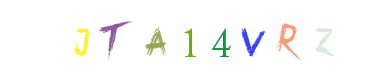1: (154, 0, 234, 80)
4: (169, 0, 249, 80)
A: (122, 0, 202, 80)
J: (43, 0, 123, 80)
R: (211, 0, 291, 80)
T: (90, 0, 170, 80)
V: (190, 0, 270, 80)
Z: (247, 0, 327, 80)
